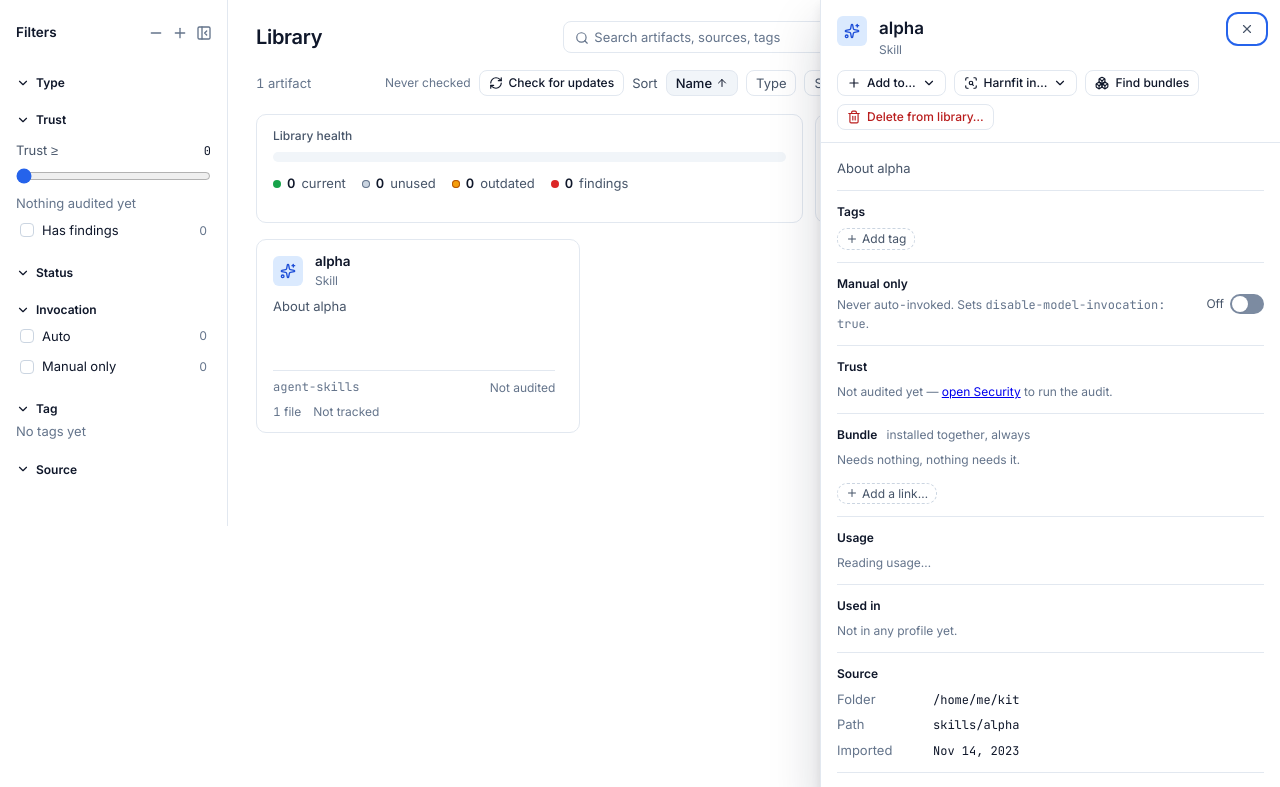
Scenario: tags in the detail panel › creates a tag with the chosen color and puts it on the artifact
This screenshot has width=1280, height=787.
Click the button "Add tag": [876, 239] box [837,228,915,250]
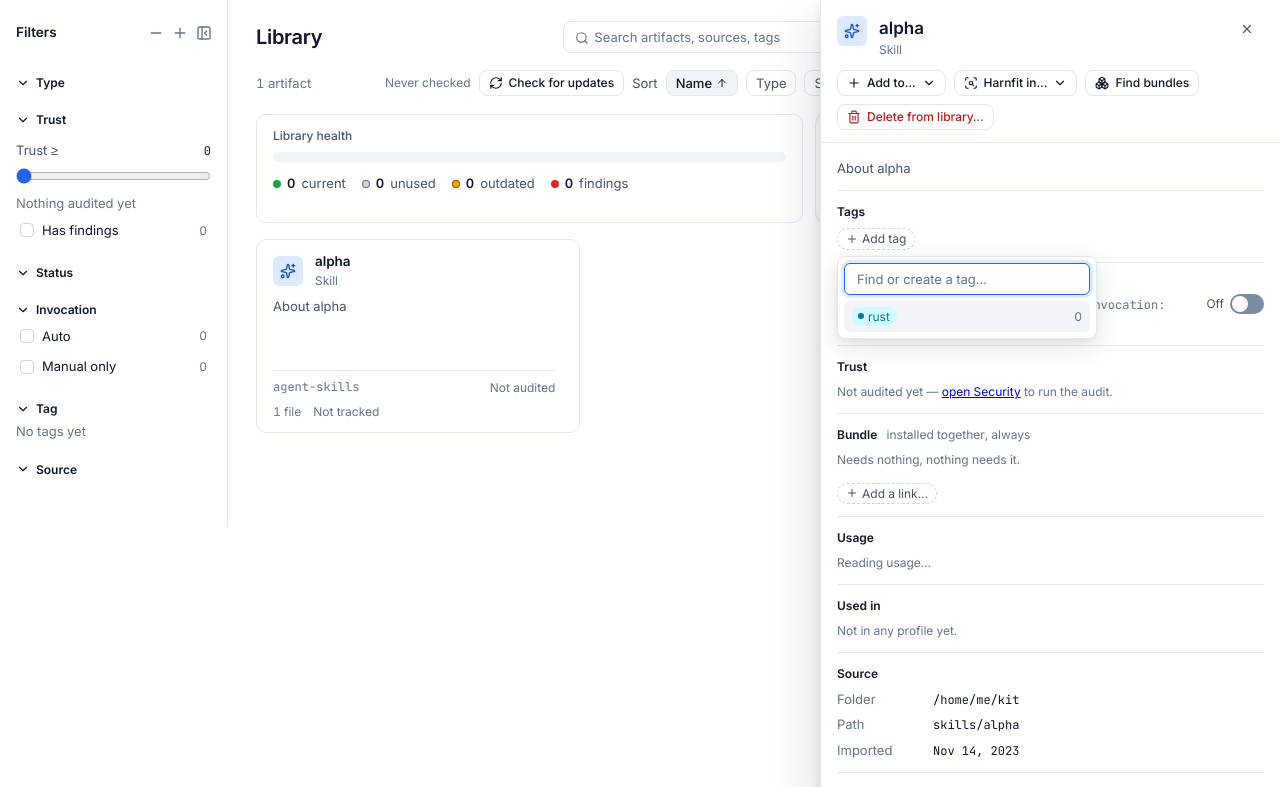
In the dropdown labelled "Find or create a tag": [967, 279] box [844,263,1090,295], type "docs"
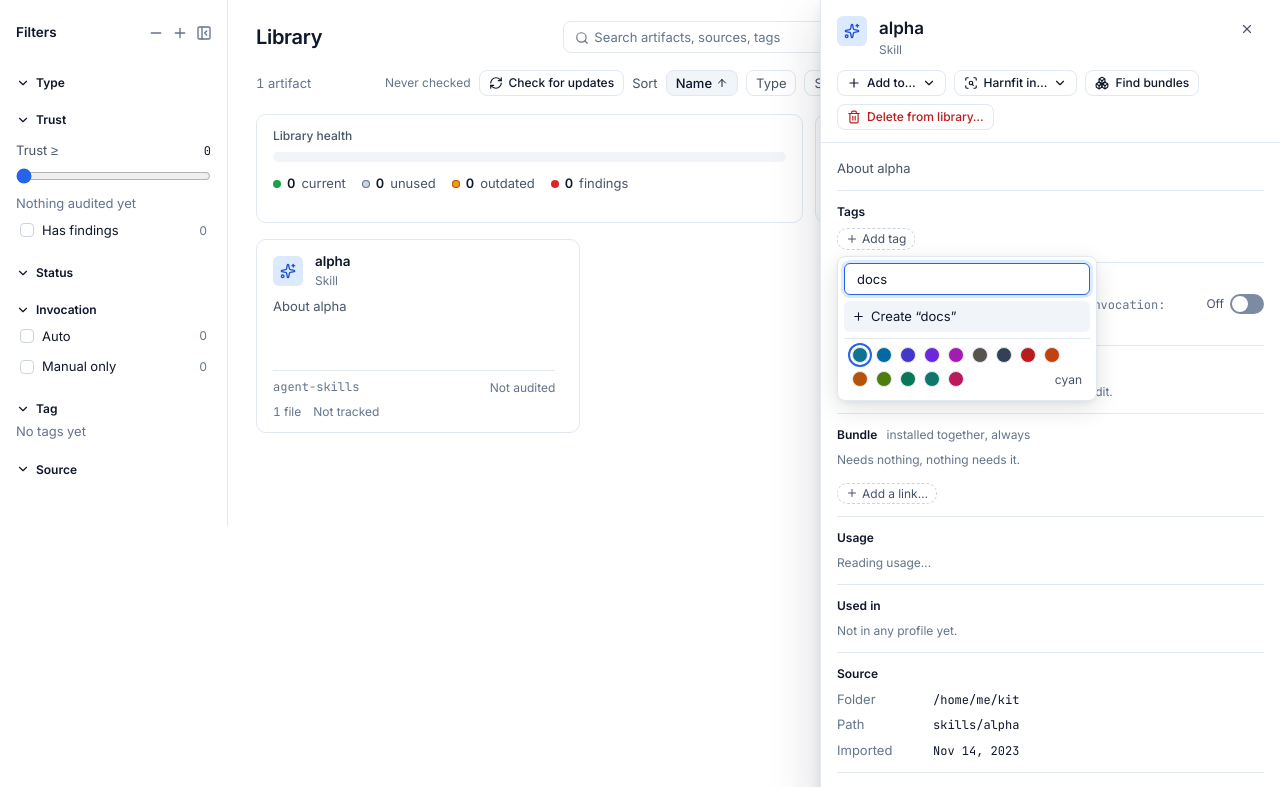
Click the radio button named "fuchsia": [956, 355] box [948,347,964,363]
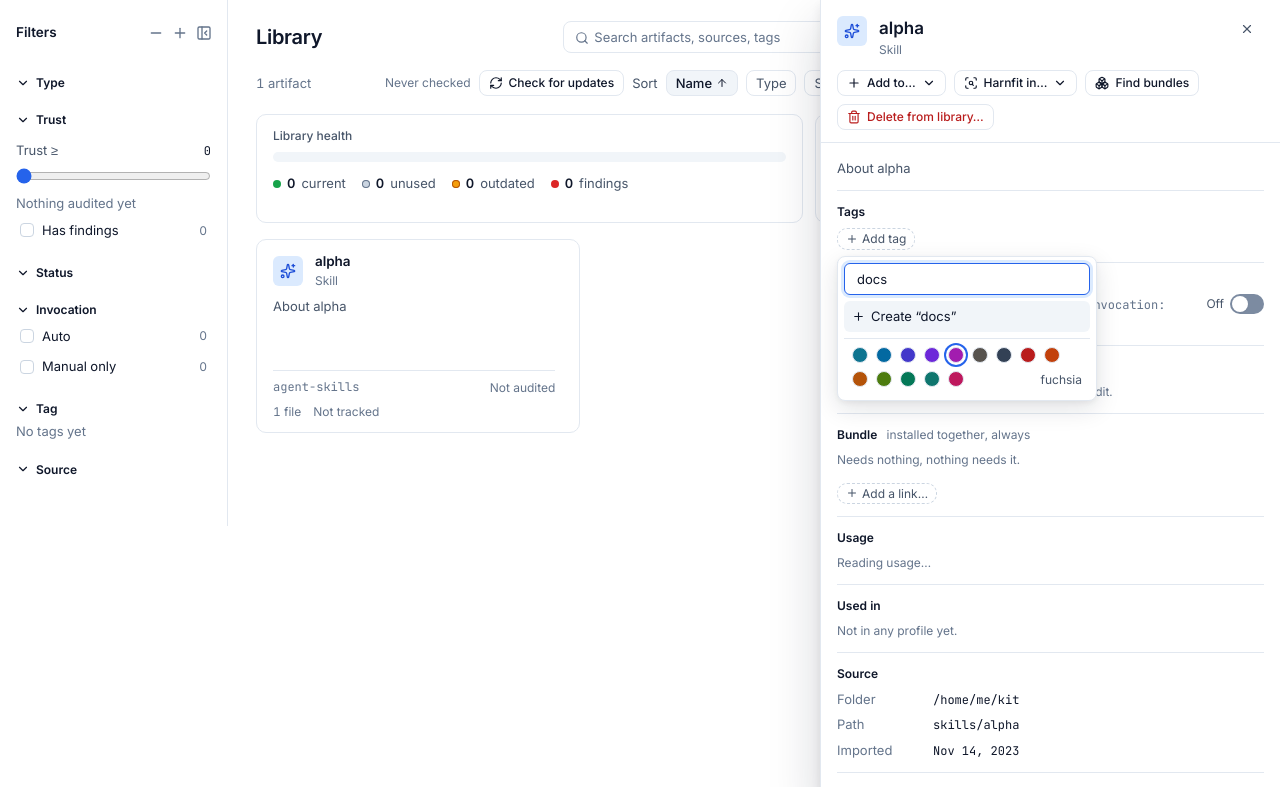
Result: the radio button named "fuchsia" is checked at [948,347,964,363]
Result: the text "fuchsia" is shown at [1040,371,1082,388]
Click the option "Create “docs”": [967, 316] box [844,301,1090,332]
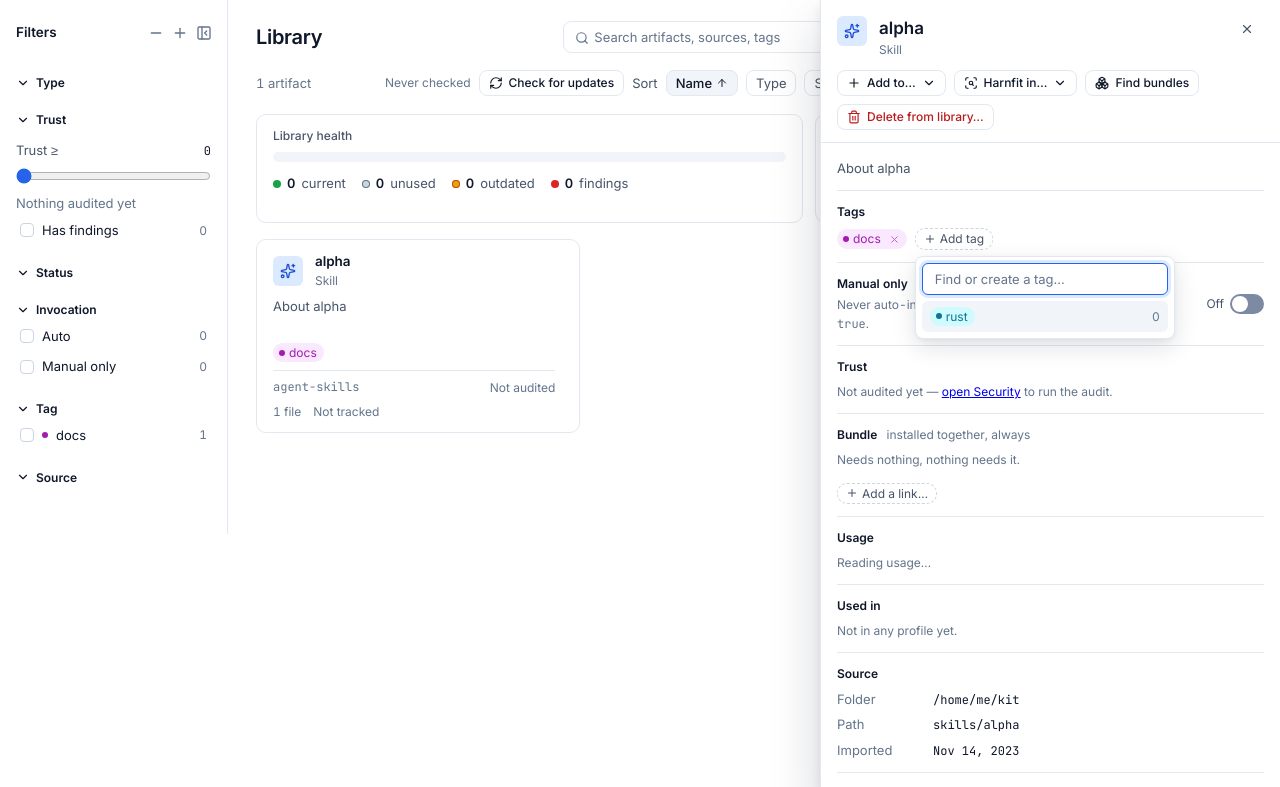
Result: the button named "Remove tag docs" is shown at [889,234,900,244]
